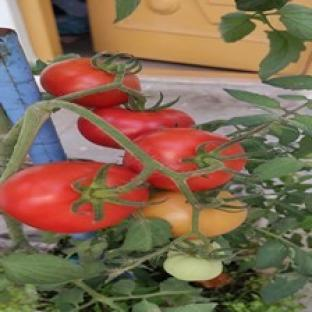Tomato: (0, 162, 149, 233), (134, 129, 246, 192), (94, 108, 194, 139), (41, 58, 115, 96), (198, 191, 247, 236), (163, 251, 222, 281), (197, 272, 231, 288)
